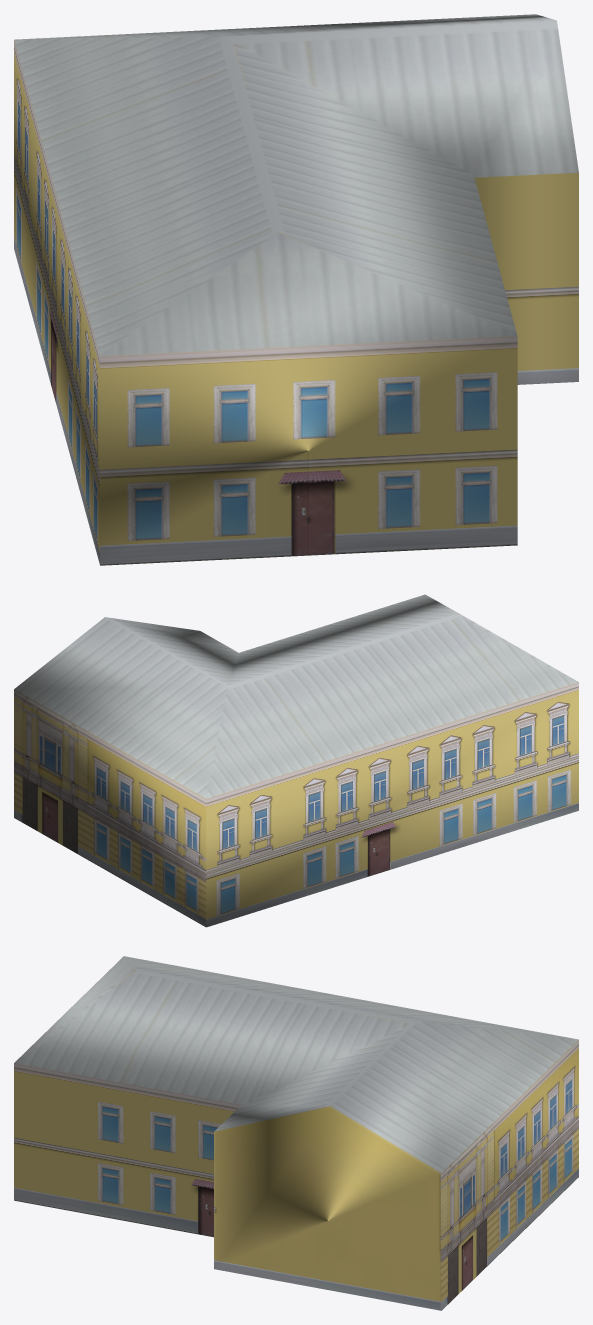
File: lp-building13.fbx
3 views of the same model, one above another, from view 1: azimuth 30°, elevation 25°; view 2: azimuth 150°, elevation 25°; view 3: azimuth 270°, elevation 25° (orthographic). The views are drawn at different scales.
Visible parts, largest first — view 1: 01houses.021; view 2: 01houses.021; view 3: 01houses.021.
Boxes of the visible parts, x1,y1,x2,y2 form: 01houses.021: [14, 14, 578, 565]; 01houses.021: [14, 594, 578, 927]; 01houses.021: [14, 956, 578, 1310].
Size of the model in its own units: 967 by 382 by 1062.
1 material, 1 textured.
